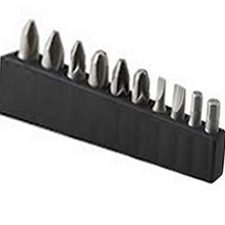screwdriver: (9, 12, 223, 138)
